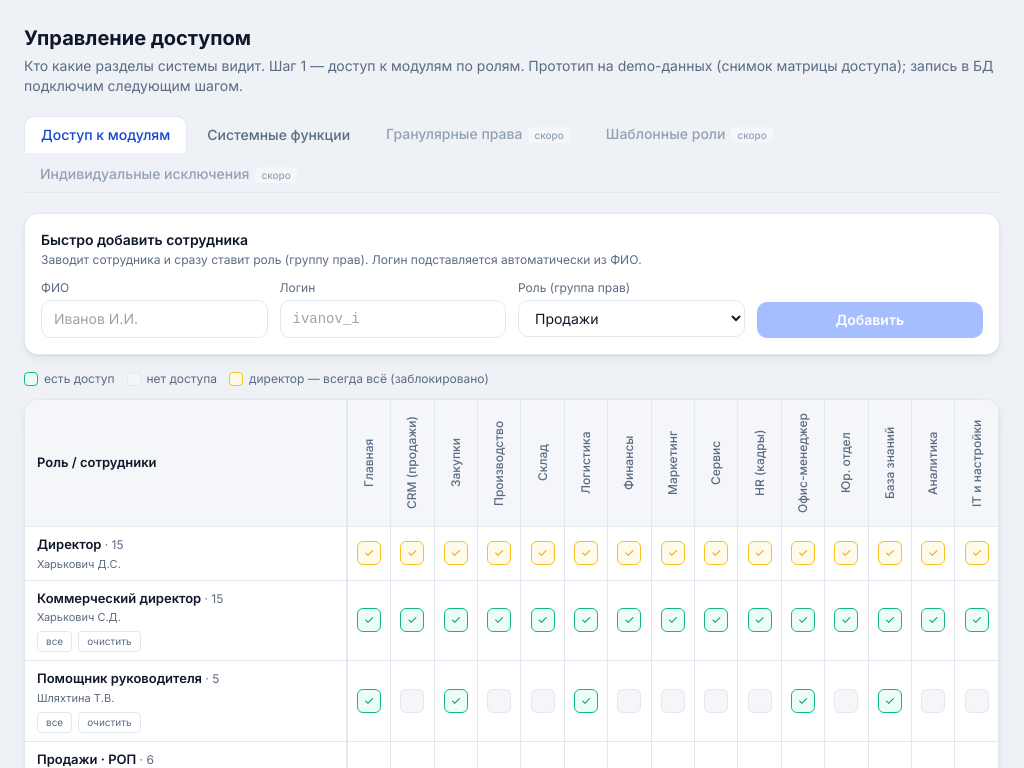
it: AccessAdmin › занятый логин не добавляет дубль, а предупреждает
// «Макаров» → логин makarov, который уже есть в снимке сотрудников
Type "Макаров" into the field with placeholder "Иванов И.И." at [154, 319], box [41, 300, 268, 338]
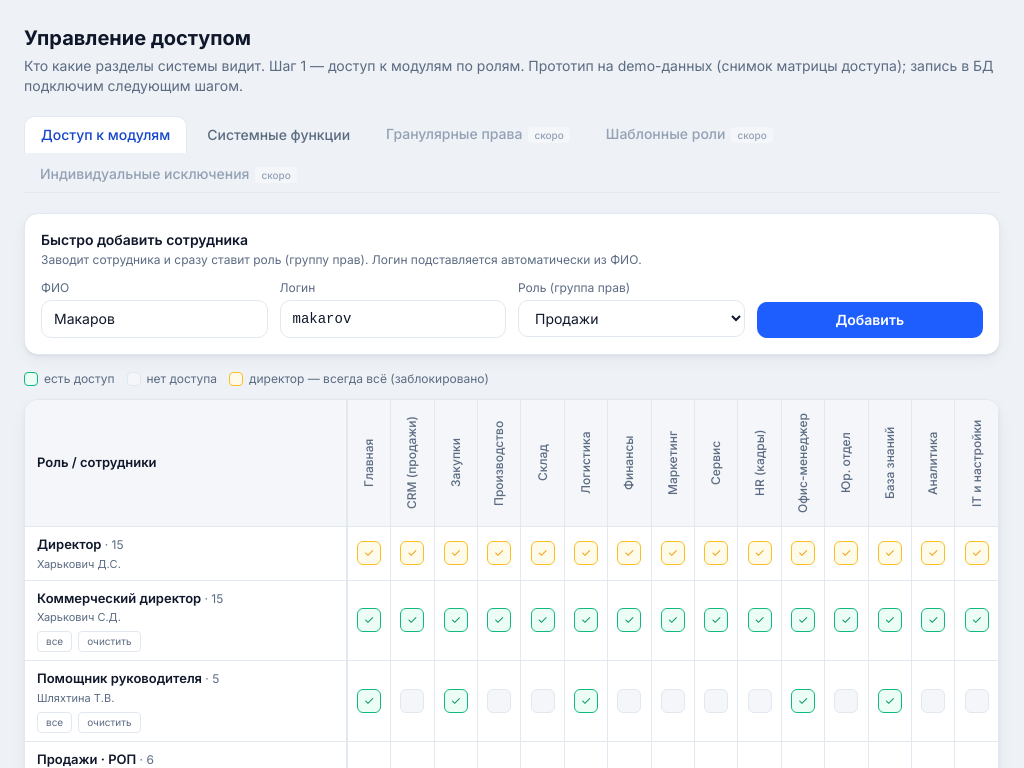
Now the field with placeholder "ivanov_i" holds "makarov", box [280, 300, 506, 338]
Click the button "Добавить" at [870, 320], box [756, 302, 983, 338]
(page scrolled)
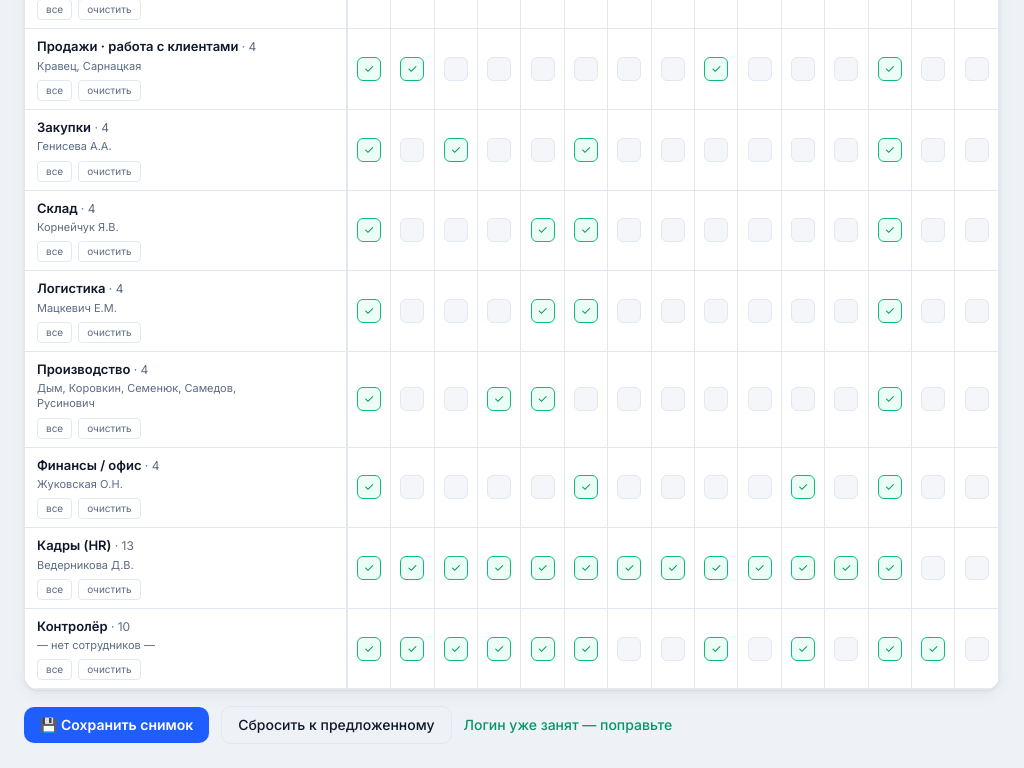
Now the text "Логин уже занят — поправьте" is shown, box [464, 715, 672, 735]
